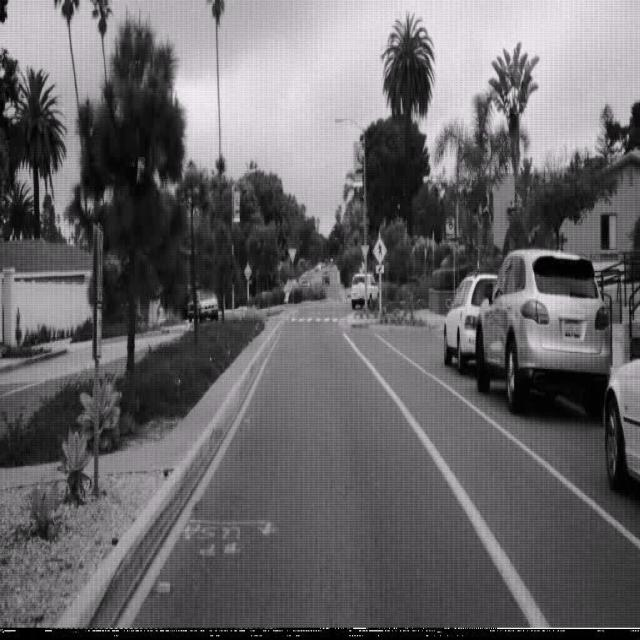pedestrianCrossing: (372, 235, 387, 265)
yield: (287, 246, 297, 264), (360, 244, 369, 260)
